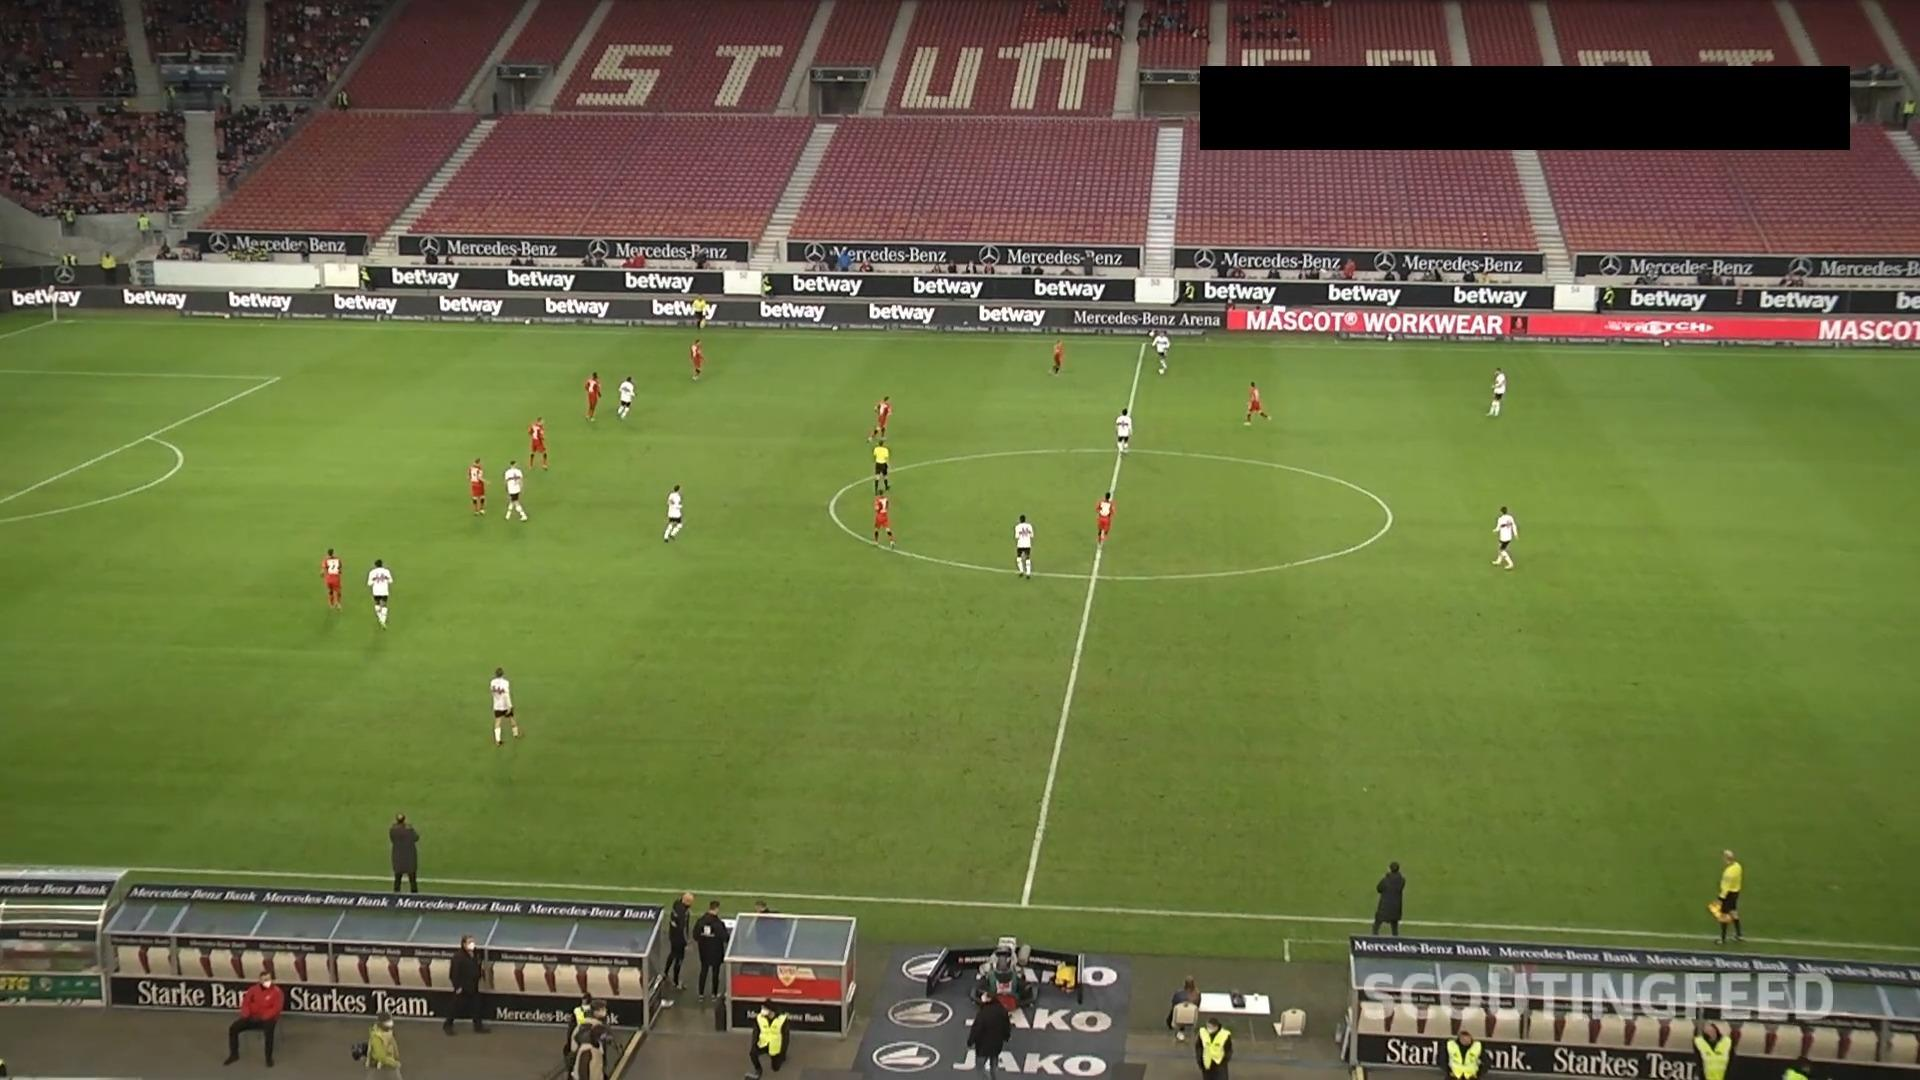ball: (1156, 367, 1166, 376)
